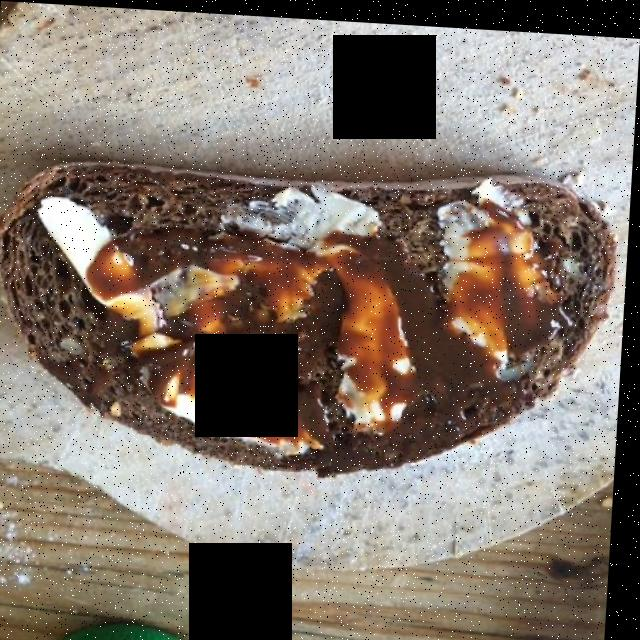bread-wholemeal: (11, 158, 611, 469)
butter: (48, 180, 515, 447)
cenovis-yeast-spread: (80, 207, 587, 433)
